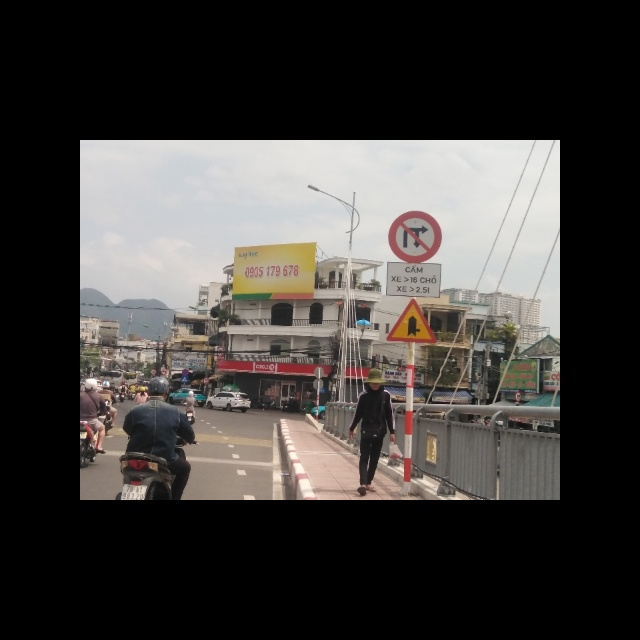Cấm quay đầu và rẽ phải: (387, 210, 441, 262)
Giao nhau với đường không ưu tiên: (385, 299, 437, 344)
